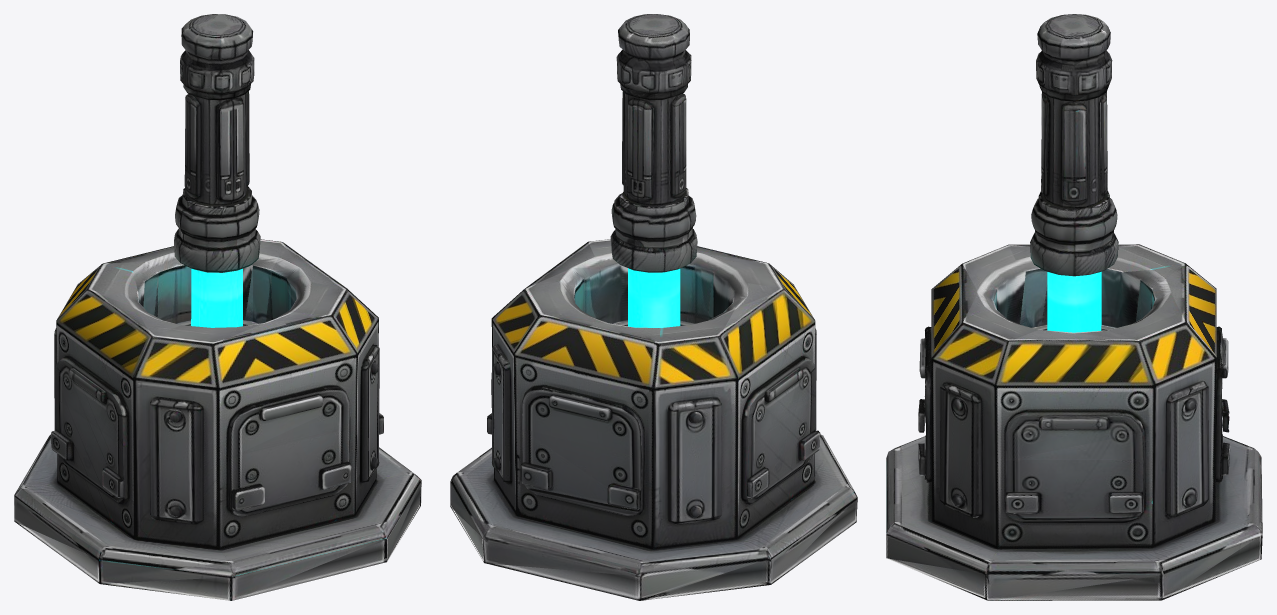
Rendered from moderator.glb.
3 renders of one model, left to right at view 1: azimuth 30°, elevation 25°; view 2: azimuth 150°, elevation 25°; view 3: azimuth 270°, elevation 25°, orthographic.
Size of the model in its own units: 0.6895 by 1 by 0.6875.
Materials: 1 (1 with a texture image).
